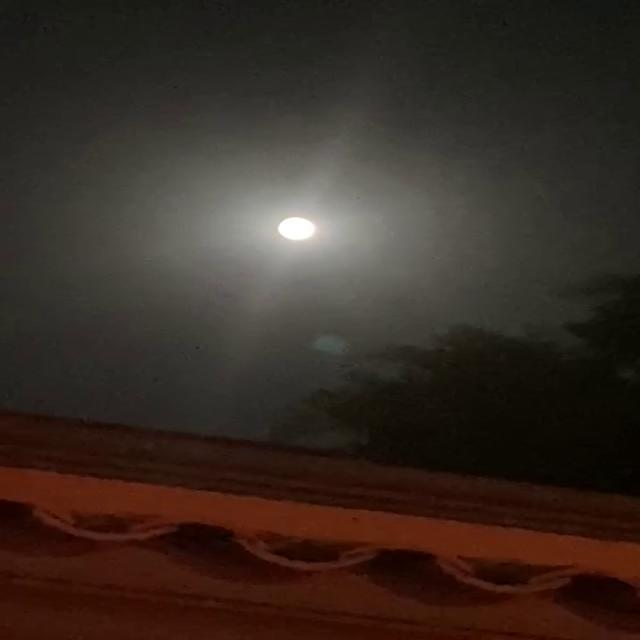moon: (275, 214, 334, 253)
